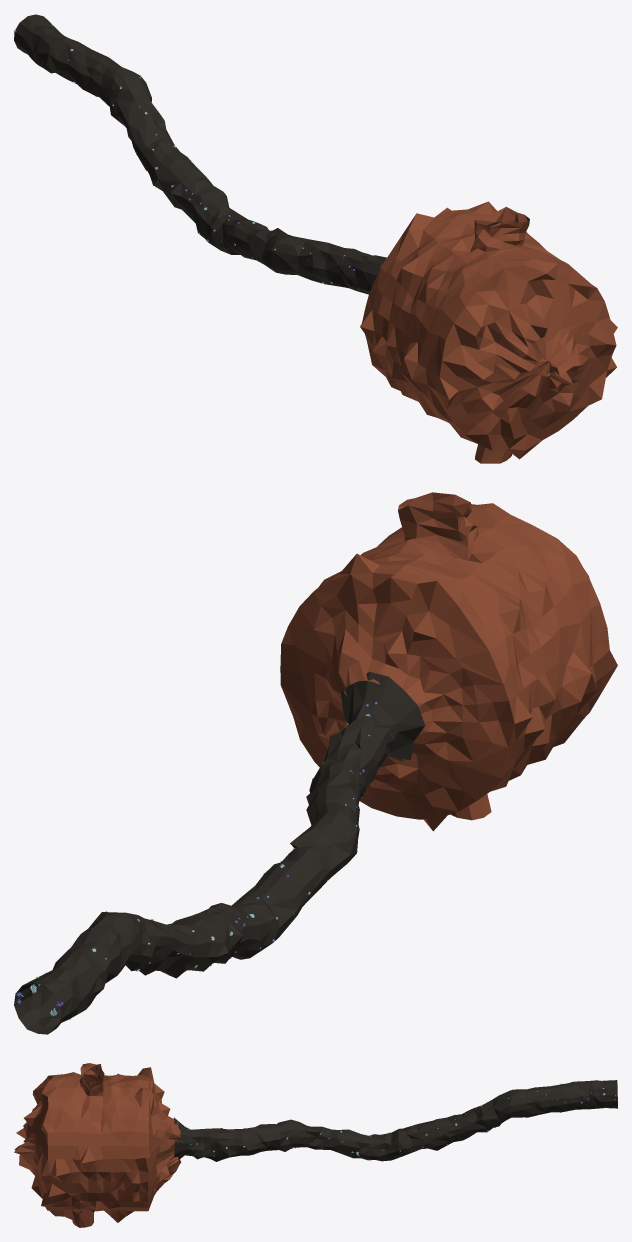
File: tunnelwelt.fbx
The picture shows the model from 3 angles, top to bottom: view 1: azimuth 30°, elevation 25°; view 2: azimuth 150°, elevation 25°; view 3: azimuth 270°, elevation 25°; orthographic projection. The views are drawn at different scales.
Parts seen in each view (by area): view 1: Höhle Cylinder; view 2: Höhle Cylinder; view 3: Höhle Cylinder.
Part boxes in pixels (bbox=[...]): Höhle Cylinder: bbox=[14, 14, 617, 463]; Höhle Cylinder: bbox=[14, 492, 617, 1034]; Höhle Cylinder: bbox=[14, 1063, 617, 1227].
Size of the model in its own units: 1074 by 1215 by 4191.
